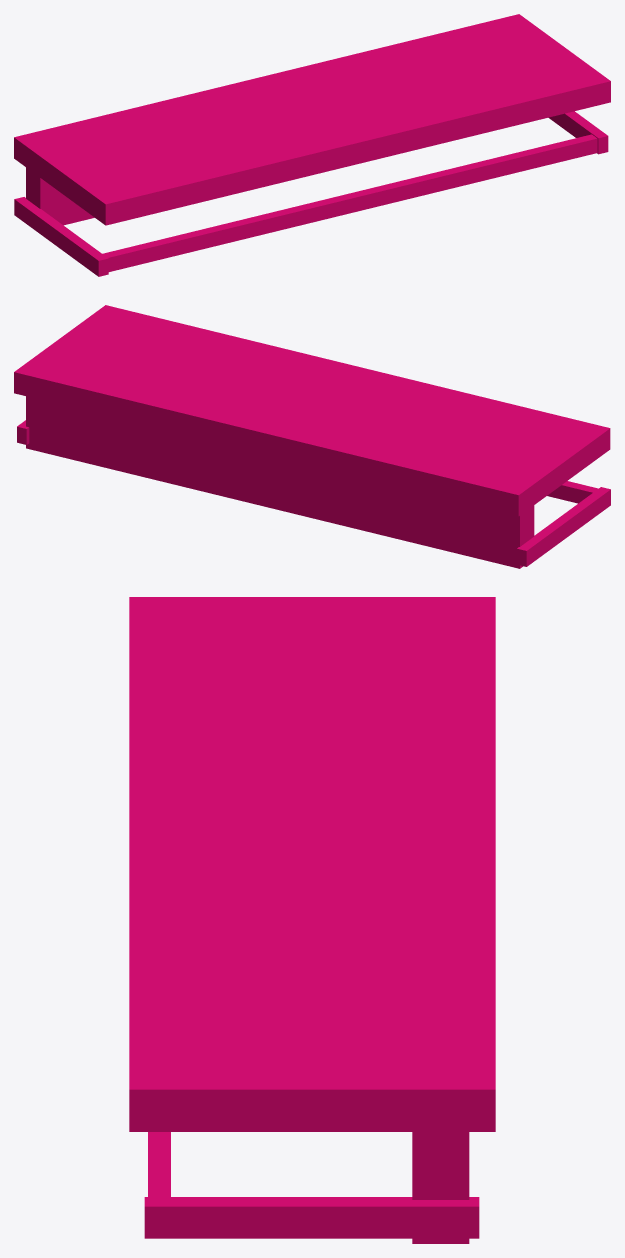
Rendered from Metal_Stairs_07.fbx.
The picture shows the model from 3 angles, top to bottom: view 1: azimuth 30°, elevation 25°; view 2: azimuth 150°, elevation 25°; view 3: azimuth 270°, elevation 25°; orthographic projection. The views are drawn at different scales.
Parts seen in each view (by area): view 1: Metal_Stairs_07; view 2: Metal_Stairs_07; view 3: Metal_Stairs_07.
Boxes of the visible parts, left/top/right/bottom form: Metal_Stairs_07: left=14, top=14, right=610, bottom=276; Metal_Stairs_07: left=14, top=305, right=610, bottom=568; Metal_Stairs_07: left=129, top=597, right=495, bottom=1243.
Size of the model in its own units: 114 by 17.06 by 35.52.
